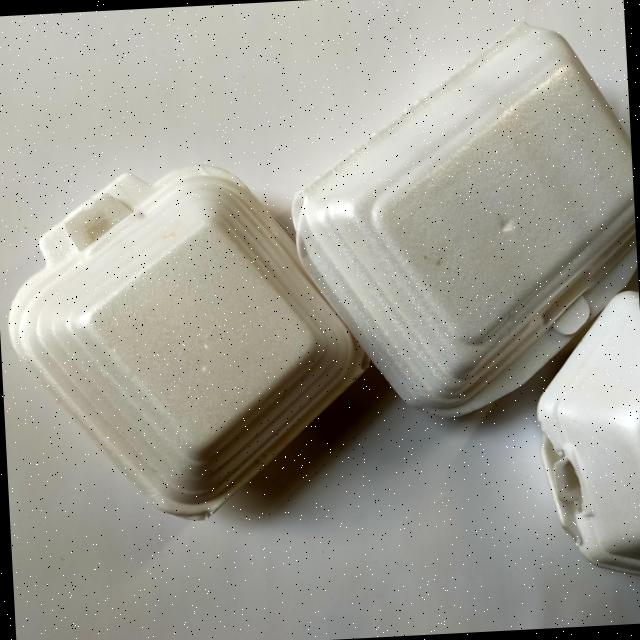styrofoam: (280, 15, 640, 427), (0, 154, 378, 531), (529, 288, 640, 584)
